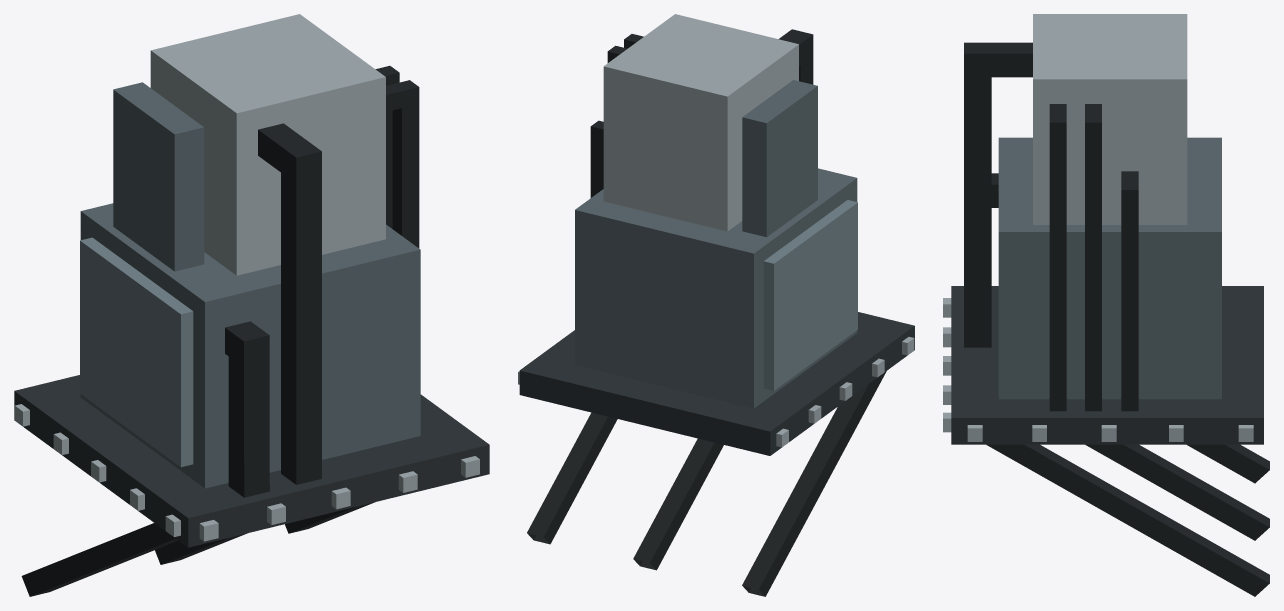
File: Border 02.FBX
3 renders of one model, left to right at view 1: azimuth 30°, elevation 25°; view 2: azimuth 150°, elevation 25°; view 3: azimuth 270°, elevation 25°, orthographic. The views are drawn at different scales.
Visible parts, largest first — view 1: Border 02; view 2: Border 02; view 3: Border 02.
Part boxes in pixels (x1,y1,x2,y2): Border 02: [14, 14, 489, 596]; Border 02: [518, 14, 914, 596]; Border 02: [943, 14, 1269, 596].
Size of the model in its own units: 524 by 878 by 523.
